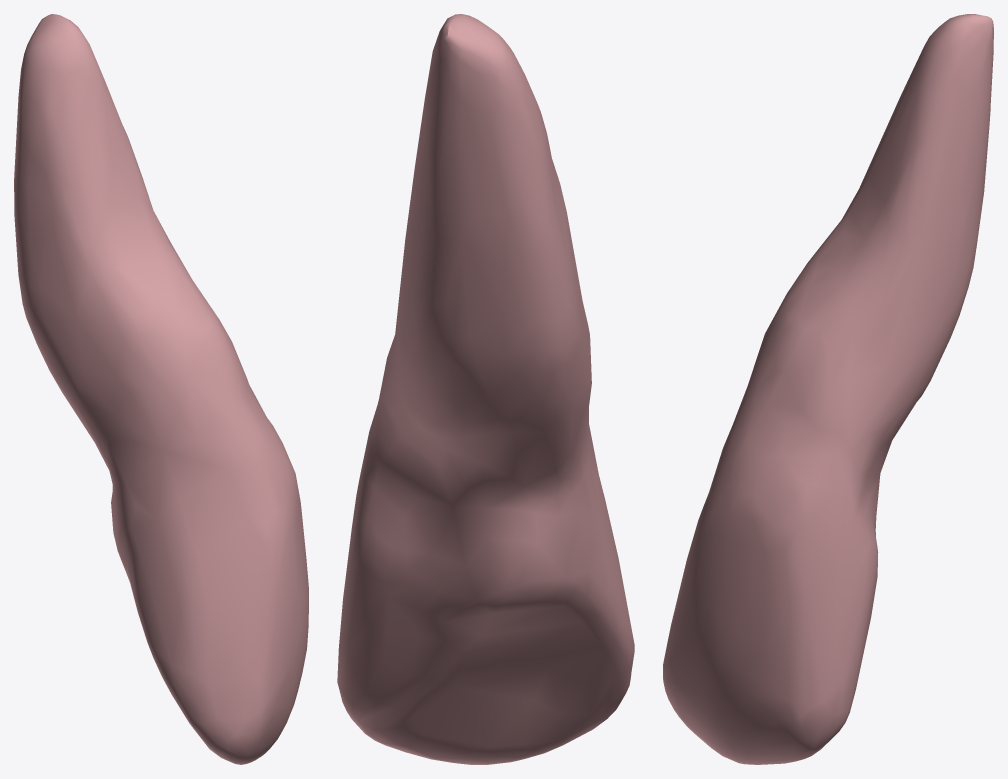
Rendered from fma55683_mm823.glb.
3 renders of one model, left to right at view 1: azimuth 30°, elevation 25°; view 2: azimuth 150°, elevation 25°; view 3: azimuth 270°, elevation 25°, orthographic. The views are drawn at different scales.
Parts seen in each view (by area): view 1: FMA55683_MM823; view 2: FMA55683_MM823; view 3: FMA55683_MM823.
Part boxes in pixels (left/top/right/bottom): FMA55683_MM823: left=14, top=14, right=308, bottom=764; FMA55683_MM823: left=337, top=14, right=634, bottom=764; FMA55683_MM823: left=663, top=14, right=993, bottom=764.
Bounding box in the file's own units: 0.00878 × 0.0251 × 0.0107.
